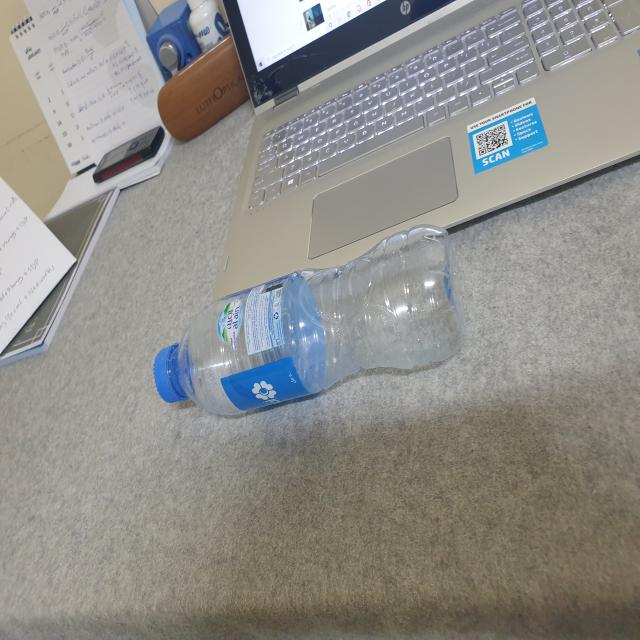bottle: (154, 227, 468, 423)
